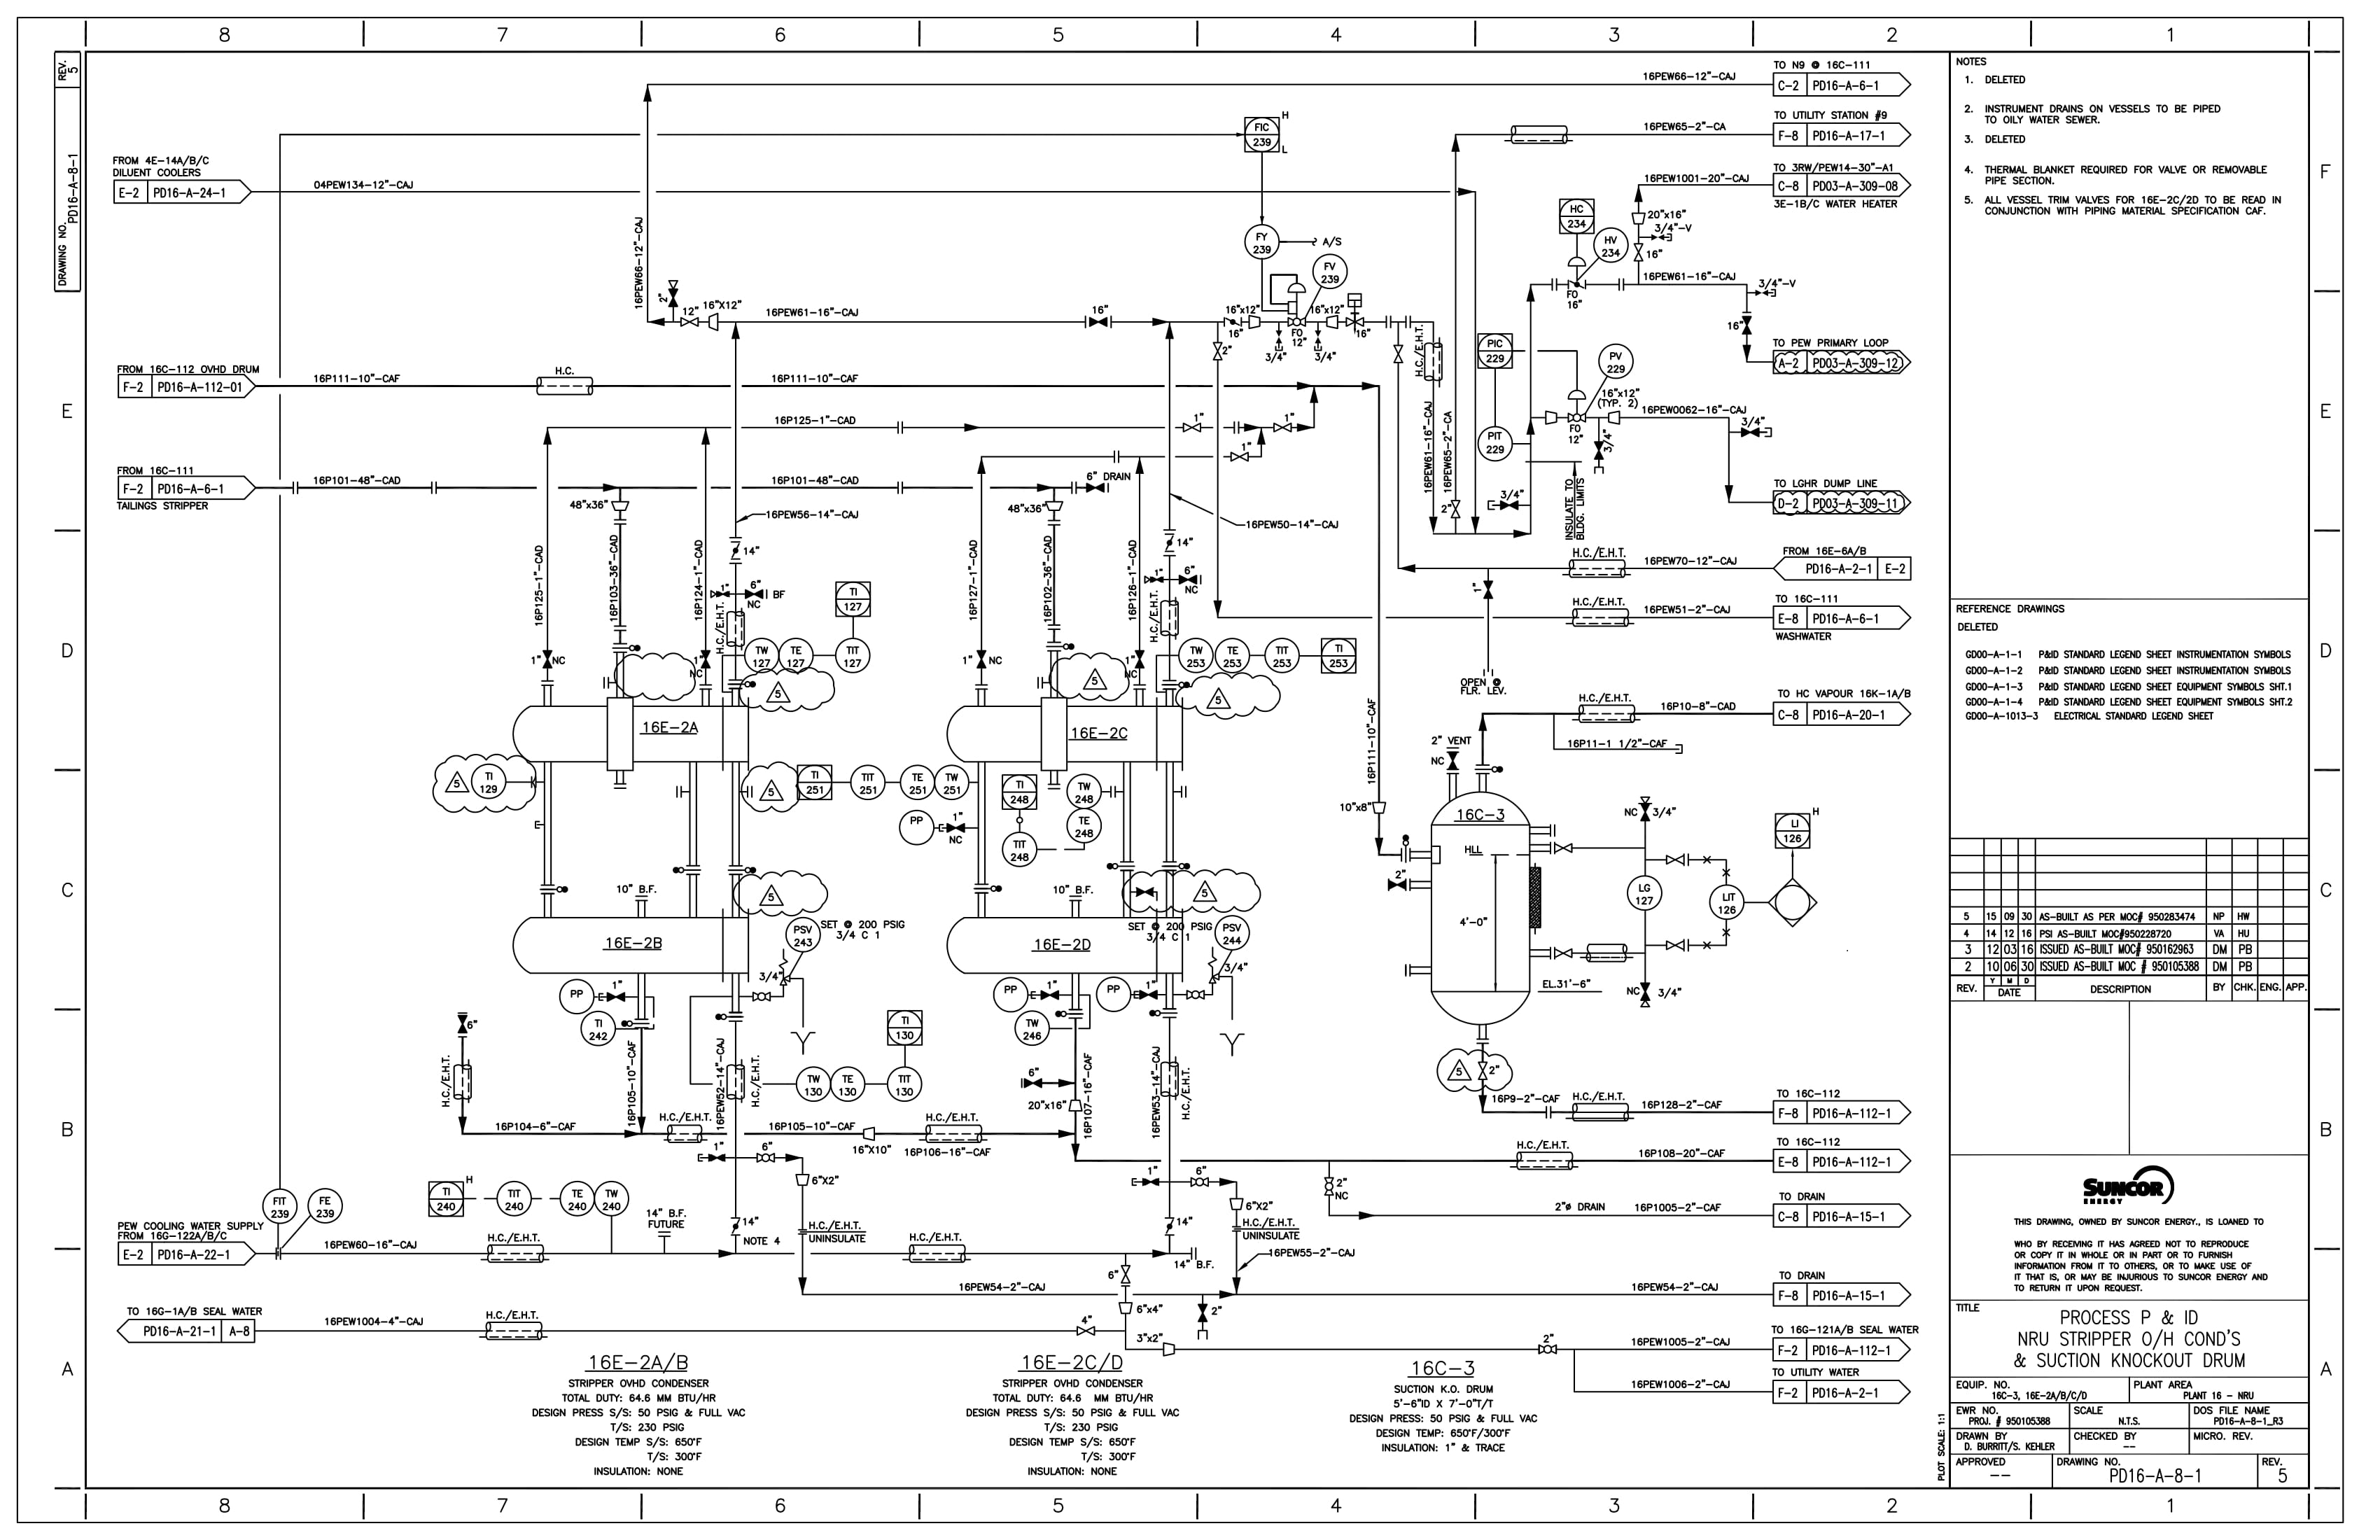Inline Instrument: (926, 753, 982, 810), (1060, 803, 1119, 853), (1258, 628, 1308, 678), (1594, 336, 1641, 385), (848, 758, 893, 808), (1060, 765, 1105, 815), (829, 1053, 869, 1108), (788, 1061, 833, 1106), (897, 760, 940, 806), (557, 1178, 600, 1224), (1214, 631, 1256, 680), (827, 636, 878, 676), (496, 1178, 539, 1223), (1473, 425, 1518, 468), (1246, 222, 1289, 265), (1592, 227, 1632, 274), (1013, 1009, 1053, 1054), (578, 1011, 619, 1053), (1625, 872, 1665, 916), (1180, 636, 1218, 680), (1705, 884, 1749, 923), (592, 1179, 631, 1219), (885, 1067, 925, 1105), (746, 636, 784, 675), (781, 631, 817, 671)
Panel Instrument: (1233, 113, 1306, 163), (1311, 624, 1365, 683), (1771, 806, 1828, 860), (425, 1172, 481, 1223), (831, 574, 885, 623), (1469, 328, 1523, 376), (1556, 191, 1603, 239), (791, 761, 838, 808)
